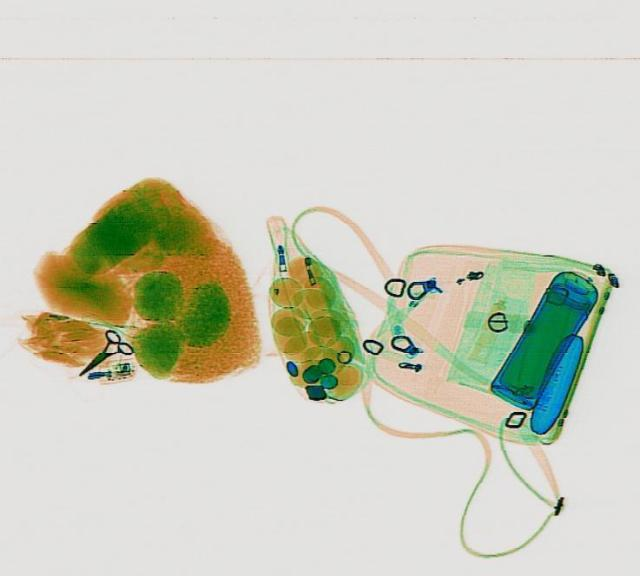Scissors: (63, 326, 134, 384)
